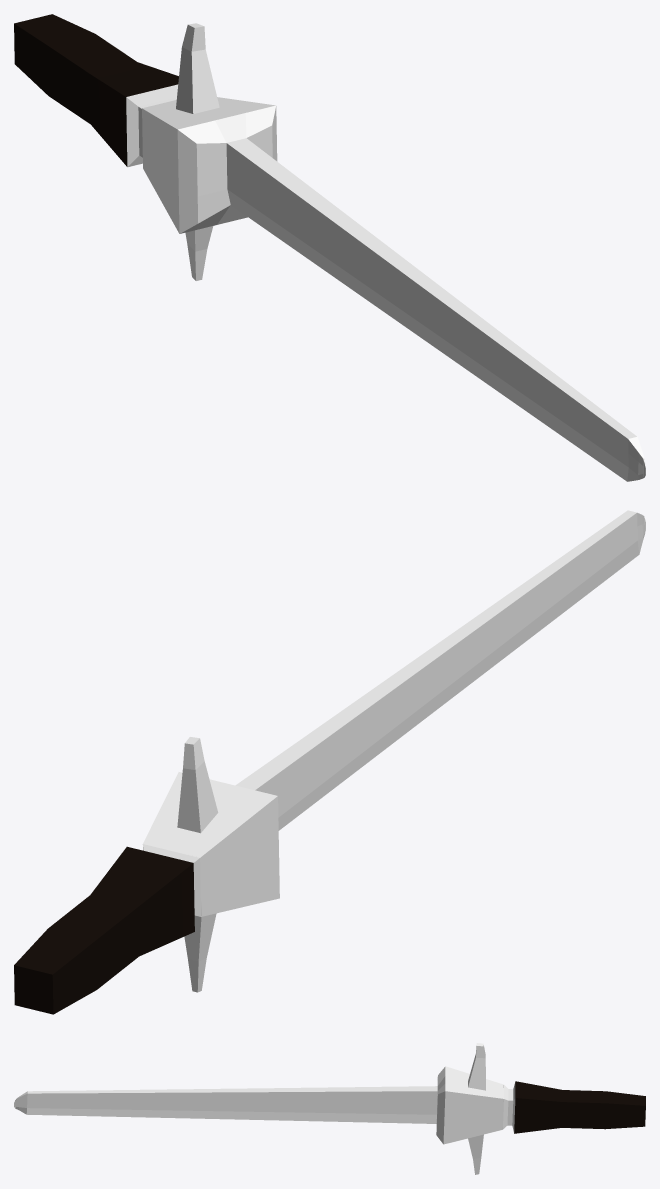
The model's file is Swords checkpoint 2.fbx.
3 views of the same model, one above another, from view 1: azimuth 30°, elevation 25°; view 2: azimuth 150°, elevation 25°; view 3: azimuth 270°, elevation 25° (orthographic). The views are drawn at different scales.
Visible parts, largest first — view 1: Cube.001, Cube.007; view 2: Cube.001, Cube.007; view 3: Cube.001, Cube.007.
Part boxes in pixels (bbox=[...]): Cube.001: bbox=[126, 23, 645, 481]; Cube.007: bbox=[14, 14, 178, 166]; Cube.001: bbox=[143, 510, 645, 992]; Cube.007: bbox=[14, 846, 194, 1014]; Cube.001: bbox=[14, 1043, 515, 1174]; Cube.007: bbox=[514, 1081, 645, 1133].
Bounding box in the file's own units: 64.63 × 158 × 693.
